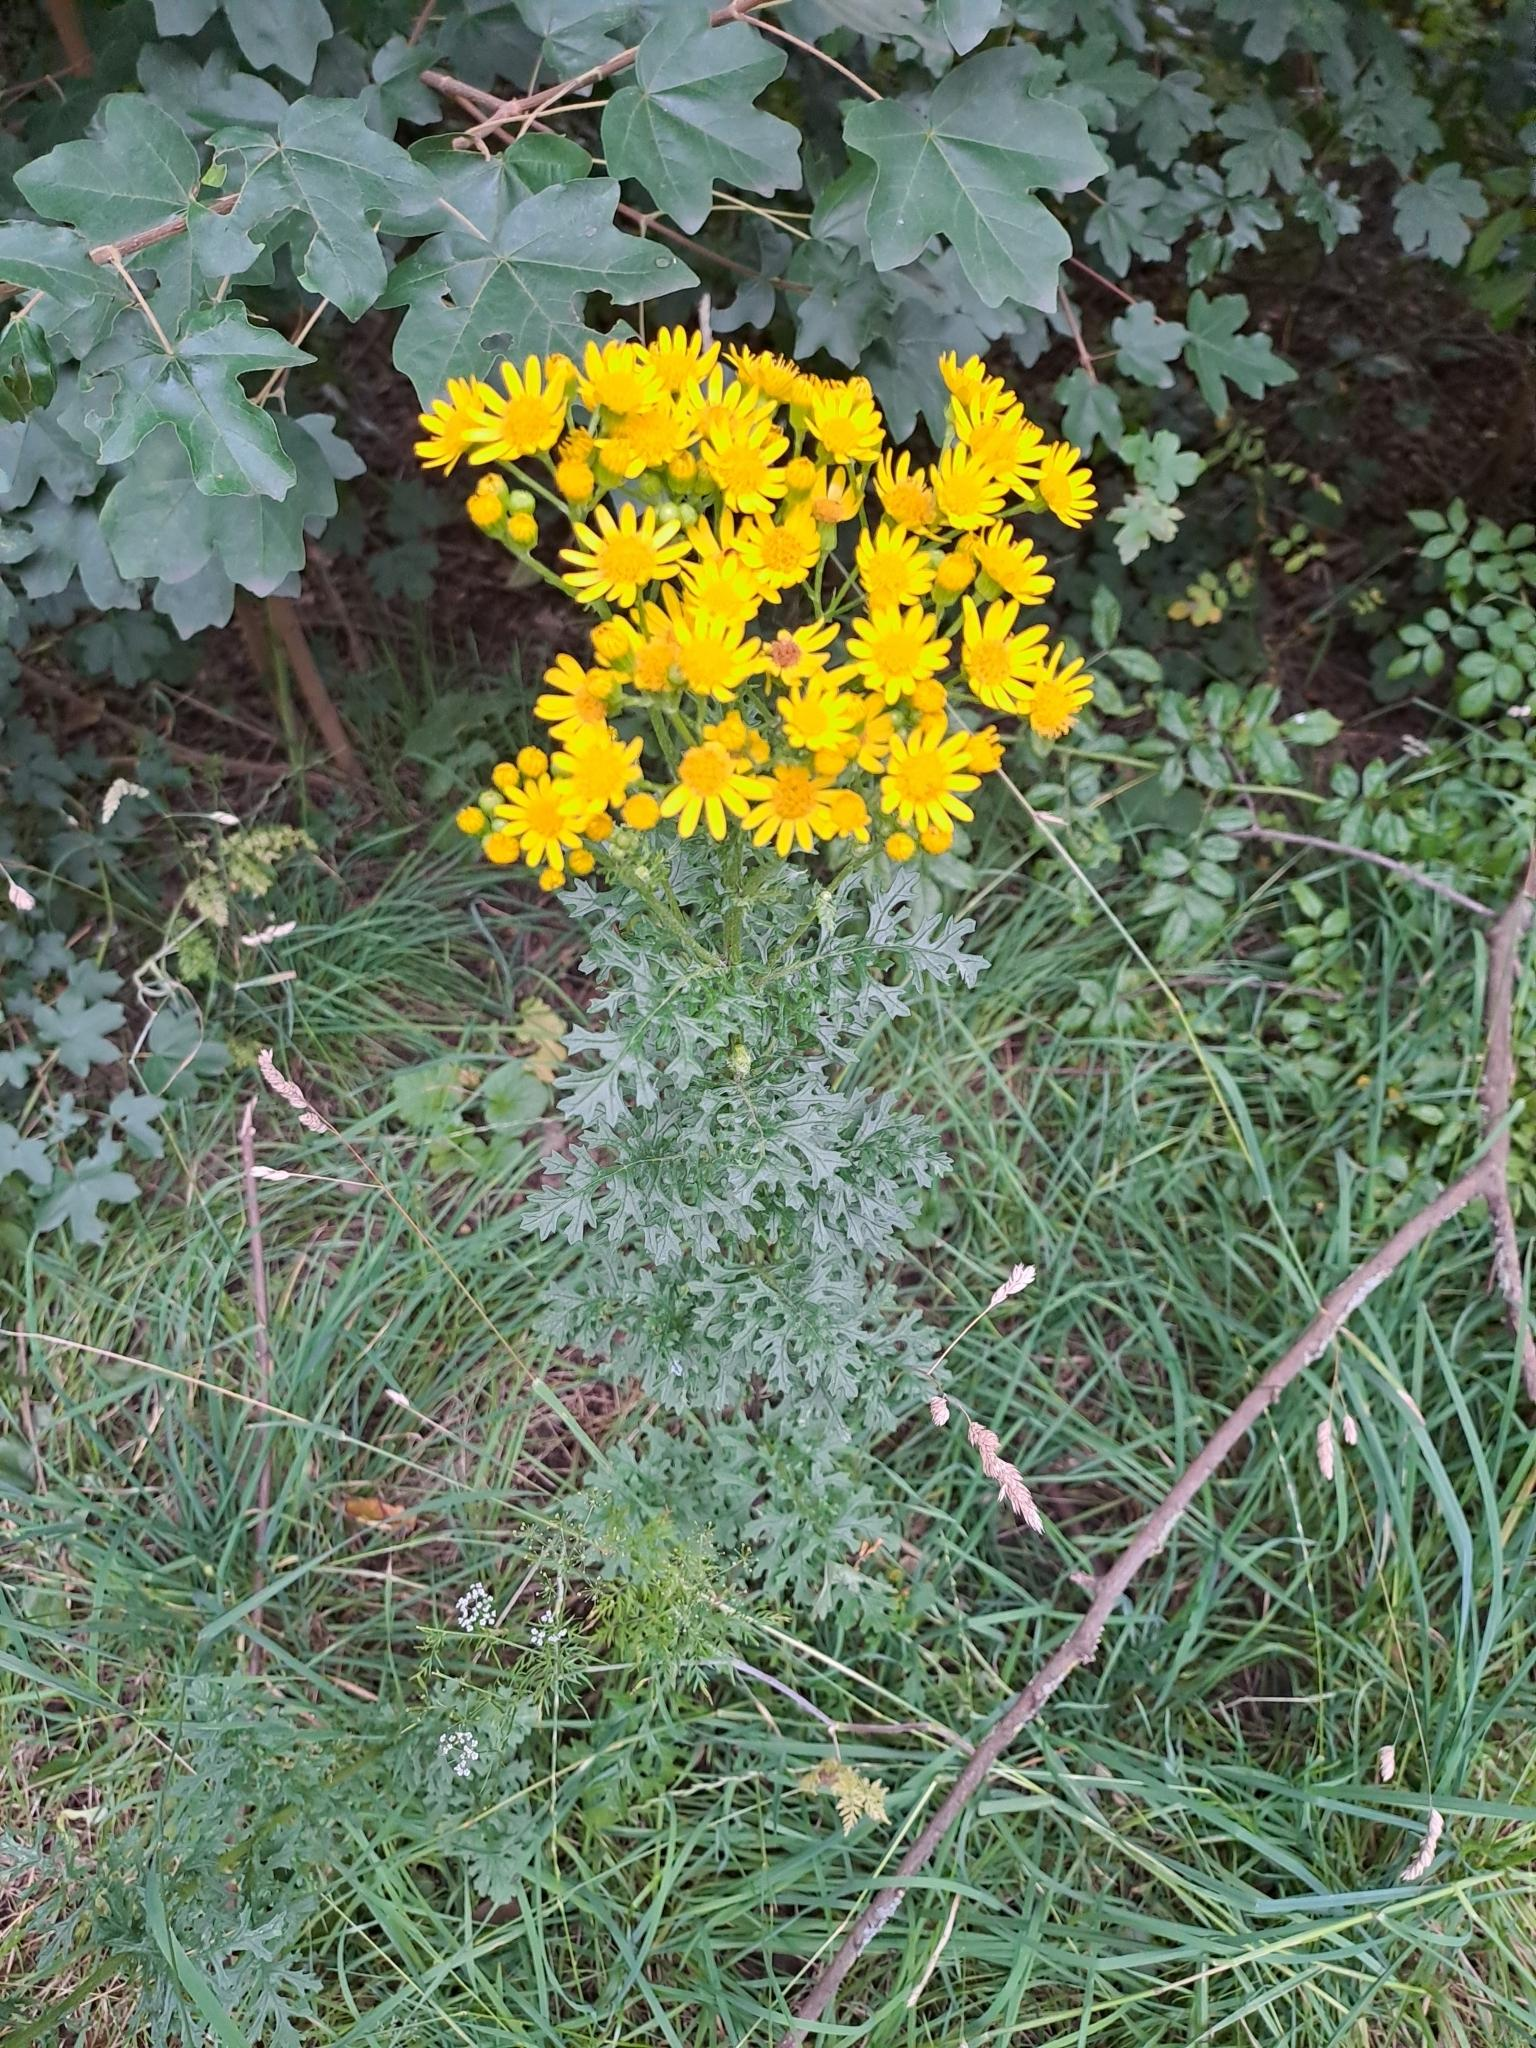Jacobaea vulgaris: (397, 266, 1126, 1640)
